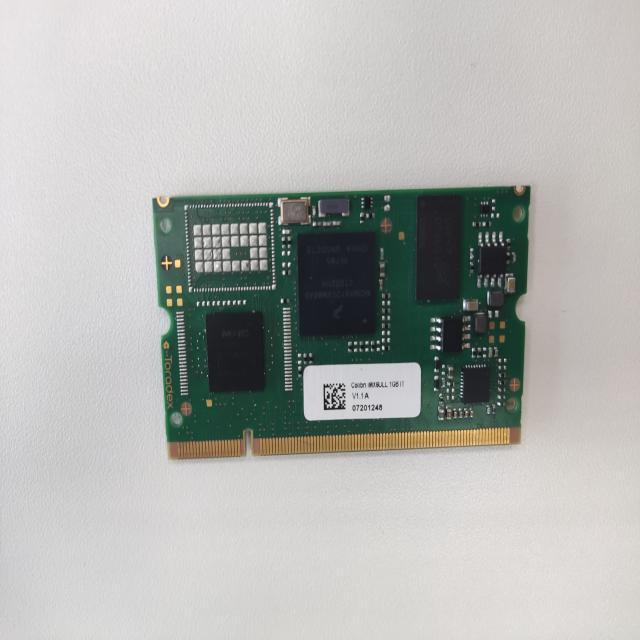som: (142, 177, 533, 472)
